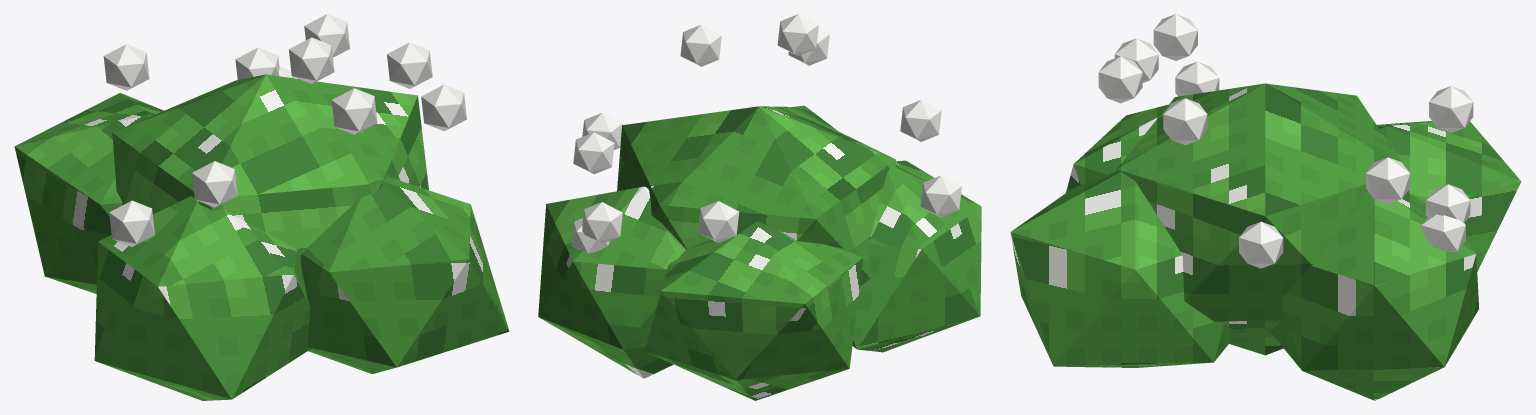
Rendered from bush2.glb.
The picture shows the model from 3 angles, left to right: view 1: azimuth 30°, elevation 25°; view 2: azimuth 150°, elevation 25°; view 3: azimuth 270°, elevation 25°; orthographic projection. The views are drawn at different scales.
Parts seen in each view (by area): view 1: bush2; view 2: bush2; view 3: bush2.
Part boxes in pixels (bbox=[...]): bush2: bbox=[14, 14, 509, 400]; bush2: bbox=[538, 14, 981, 400]; bush2: bbox=[1010, 14, 1521, 400].
Bounding box in the file's own units: 1.63 × 1.34 × 1.77.
Materials: 2 (1 with a texture image).
